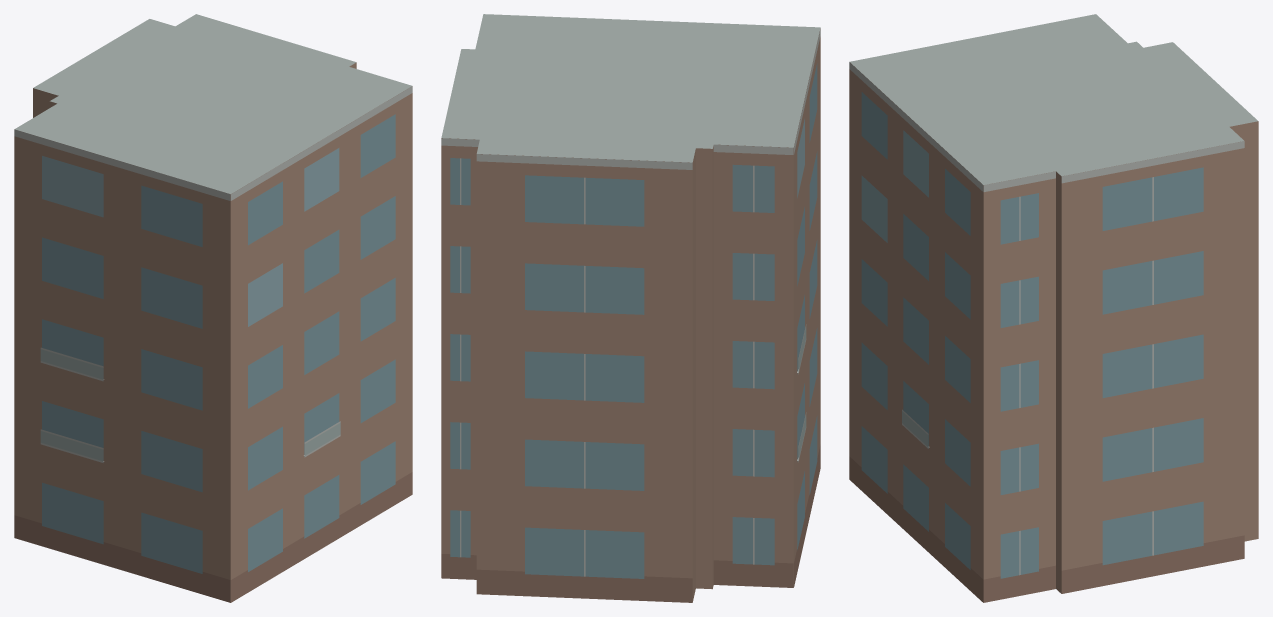
Rendered from survey-upis-32961362.glb.
The picture shows the model from 3 angles, left to right: view 1: azimuth 30°, elevation 25°; view 2: azimuth 150°, elevation 25°; view 3: azimuth 270°, elevation 25°; orthographic projection. The views are drawn at different scales.
Parts seen in each view (by area): view 1: survey-upis-32961362.tmp; view 2: survey-upis-32961362.tmp; view 3: survey-upis-32961362.tmp.
Boxes of the visible parts, bbox=[...] form: survey-upis-32961362.tmp: bbox=[14, 14, 412, 602]; survey-upis-32961362.tmp: bbox=[441, 14, 820, 602]; survey-upis-32961362.tmp: bbox=[849, 14, 1258, 602].
Size of the model in its own units: 12.58 by 14.3 by 12.7.
